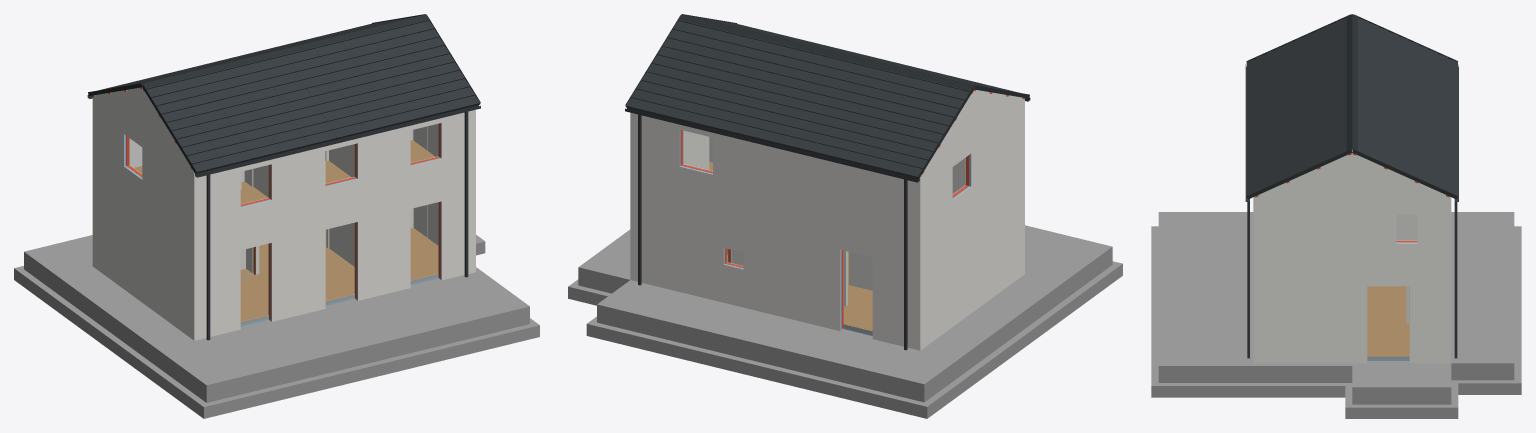
File: Casa_Tipo1_Completa.glb
3 views of the same model, side by side, from view 1: azimuth 30°, elevation 25°; view 2: azimuth 150°, elevation 25°; view 3: azimuth 270°, elevation 25° (orthographic). The views are drawn at different scales.
Parts seen in each view (by area): view 1: Reboco armado + acabamento branco (B) | Fachada Sul, Fundação | Laje, Reboco armado + acabamento branco (B) | Fachada Oeste, Fundação | Sapata corrida, Fundação | Muro perimetral (altura indicativa), Vinílico | P0.03, Painel sandwich S 03, Painel sandwich S 09, Painel sandwich S 05, Painel sandwich S 08, Painel sandwich S 04, Painel sandwich S 07 (+15 smaller); view 2: Reboco armado + acabamento branco (B) | Fachada Norte, Fundação | Laje, Reboco armado + acabamento branco (B) | Fachada Oeste, Fundação | Sapata corrida, Fundação | Muro perimetral (altura indicativa), Painel sandwich N 03, Painel sandwich N 06, Painel sandwich N 07, Painel sandwich N 02, Painel sandwich N 04, Painel sandwich N 05, Painel sandwich N 08 (+10 smaller); view 3: Reboco armado + acabamento branco (B) | Fachada Este, Fundação | Laje, Fundação | Sapata corrida, Fundação | Muro perimetral (altura indicativa), Vinílico | P0.03, Cumeeira, Painel sandwich S 02, Painel sandwich S 08, Painel sandwich S 01, Painel sandwich S 03, Painel sandwich S 04, Painel sandwich S 05 (+19 smaller).
Boxes of the visible parts, bbox=[...] form: Reboco armado + acabamento branco (B) | Fachada Sul: bbox=[194, 109, 475, 340]; Fundação | Laje: bbox=[24, 235, 529, 390]; Reboco armado + acabamento branco (B) | Fachada Oeste: bbox=[93, 87, 194, 340]; Fundação | Sapata corrida: bbox=[14, 235, 539, 418]; Fundação | Muro perimetral (altura indicativa): bbox=[24, 258, 529, 402]; Vinílico | P0.03: bbox=[240, 230, 354, 321]; Painel sandwich S 03: bbox=[201, 68, 280, 159]; Painel sandwich S 09: bbox=[370, 27, 449, 118]; Painel sandwich S 05: bbox=[258, 54, 336, 145]; Painel sandwich S 08: bbox=[342, 33, 421, 125]; Painel sandwich S 04: bbox=[229, 61, 308, 152]; Painel sandwich S 07: bbox=[314, 40, 393, 132]; Reboco armado + acabamento branco (B) | Fachada Norte: bbox=[630, 112, 920, 350]; Fundação | Laje: bbox=[578, 225, 1112, 390]; Reboco armado + acabamento branco (B) | Fachada Oeste: bbox=[920, 90, 1024, 350]; Fundação | Sapata corrida: bbox=[568, 261, 1122, 418]; Fundação | Muro perimetral (altura indicativa): bbox=[578, 253, 1112, 402]; Painel sandwich N 03: bbox=[831, 69, 912, 164]; Painel sandwich N 06: bbox=[744, 48, 825, 142]; Painel sandwich N 07: bbox=[715, 41, 796, 135]; Painel sandwich N 02: bbox=[860, 76, 941, 171]; Painel sandwich N 04: bbox=[802, 62, 883, 157]; Painel sandwich N 05: bbox=[773, 55, 854, 150]; Painel sandwich N 08: bbox=[686, 34, 767, 128]; Reboco armado + acabamento branco (B) | Fachada Este: bbox=[1253, 151, 1451, 363]; Fundação | Laje: bbox=[1158, 212, 1514, 392]; Fundação | Sapata corrida: bbox=[1151, 226, 1521, 418]; Fundação | Muro perimetral (altura indicativa): bbox=[1158, 369, 1514, 404]; Vinílico | P0.03: bbox=[1367, 286, 1409, 355]; Cumeeira: bbox=[1346, 14, 1357, 150]; Painel sandwich S 02: bbox=[1246, 30, 1346, 88]; Painel sandwich S 08: bbox=[1246, 110, 1346, 168]; Painel sandwich S 01: bbox=[1246, 17, 1346, 74]; Painel sandwich S 03: bbox=[1246, 44, 1346, 101]; Painel sandwich S 04: bbox=[1246, 57, 1346, 114]; Painel sandwich S 05: bbox=[1246, 70, 1346, 128].
Bounding box in the file's own units: 13.55 × 8.49 × 11.7.
